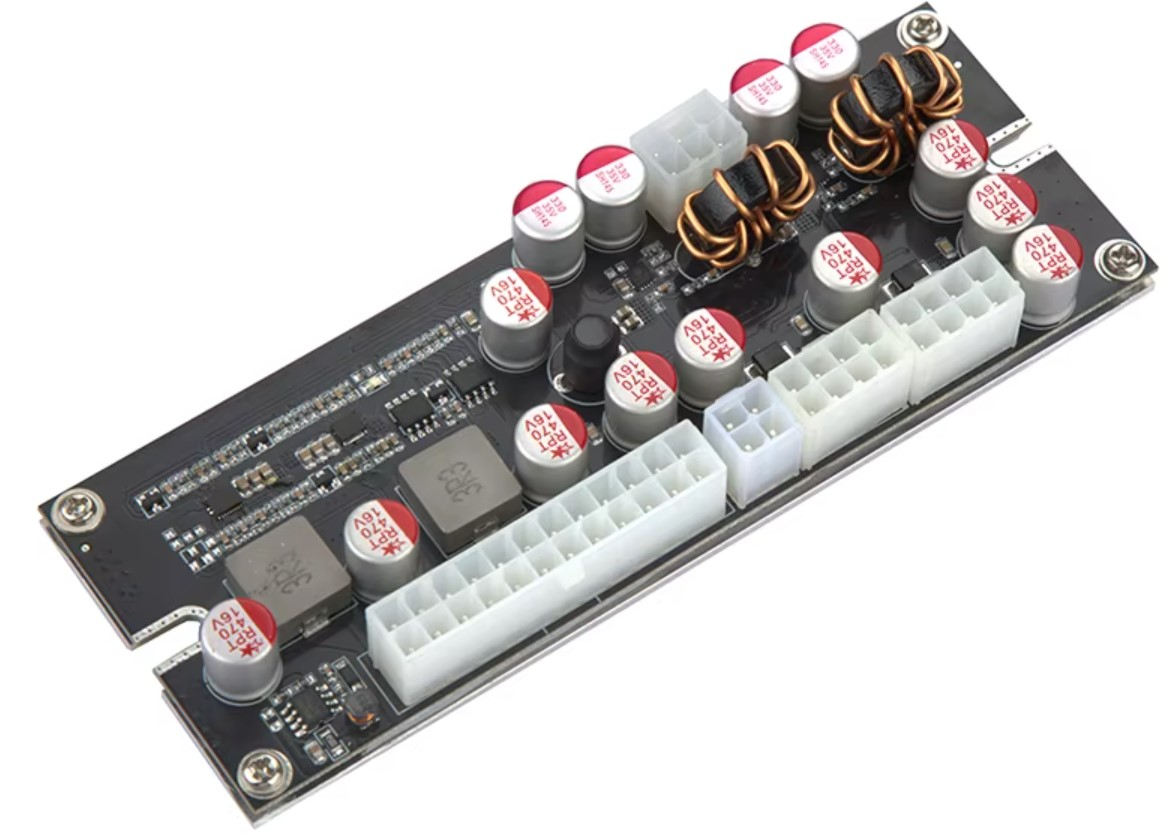Induktor: (219, 513, 354, 640), (399, 421, 520, 553)
